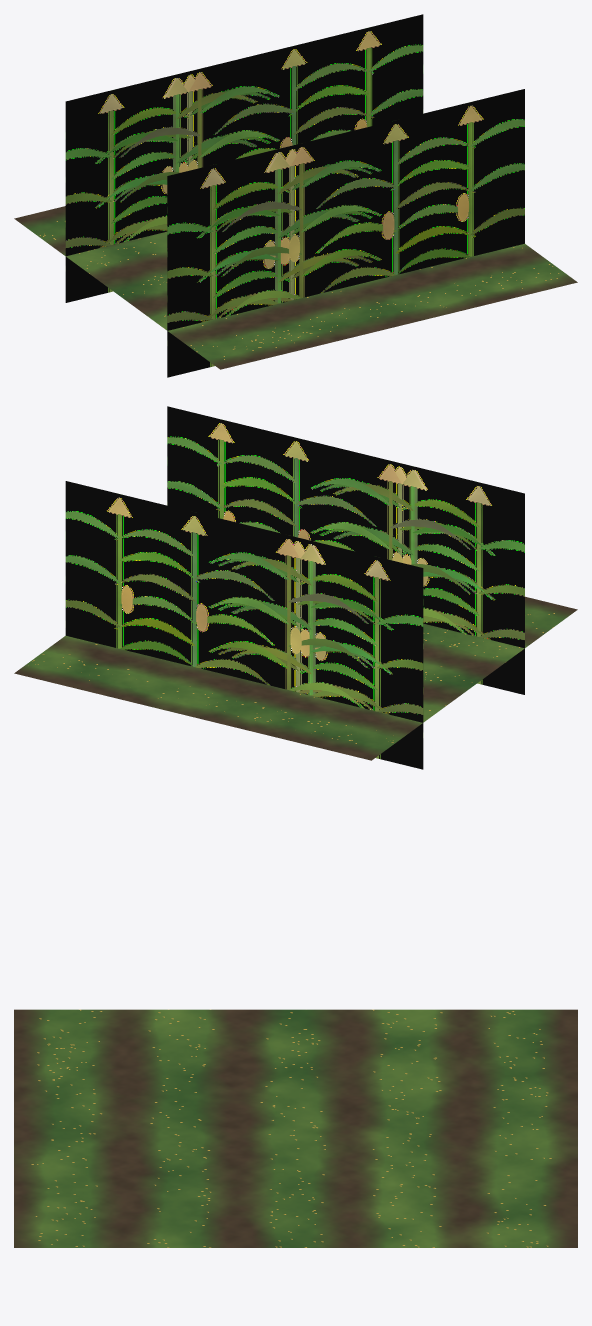
File: Crop_Corn_1_LOD1.gltf
The picture shows the model from 3 angles, top to bottom: view 1: azimuth 30°, elevation 25°; view 2: azimuth 150°, elevation 25°; view 3: azimuth 270°, elevation 25°; orthographic projection. The views are drawn at different scales.
Visible parts, largest first — view 1: Crop_Corn_1_LOD1; view 2: Crop_Corn_1_LOD1; view 3: Crop_Corn_1_LOD1.
Part boxes in pixels (x1,y1,x2,y2): Crop_Corn_1_LOD1: (14, 14, 577, 377); Crop_Corn_1_LOD1: (14, 406, 577, 769); Crop_Corn_1_LOD1: (14, 1009, 577, 1247).
Size of the model in its own units: 4 by 2.16 by 4.
Materials: 2 (2 with a texture image).
